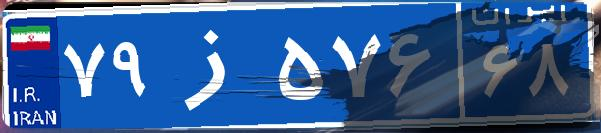5: (273, 28, 330, 110)
6: (385, 28, 445, 110), (475, 38, 525, 113)
7: (330, 28, 385, 110), (57, 26, 110, 107)
8: (525, 38, 570, 115)
9: (110, 28, 158, 105)
ز: (158, 15, 273, 115)
